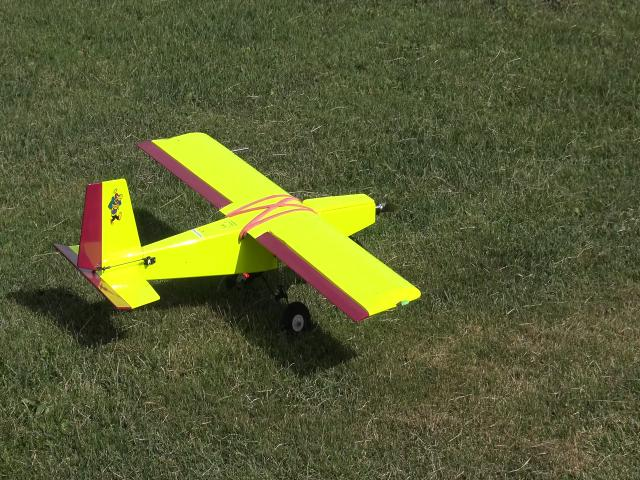plane: (52, 130, 422, 327)
